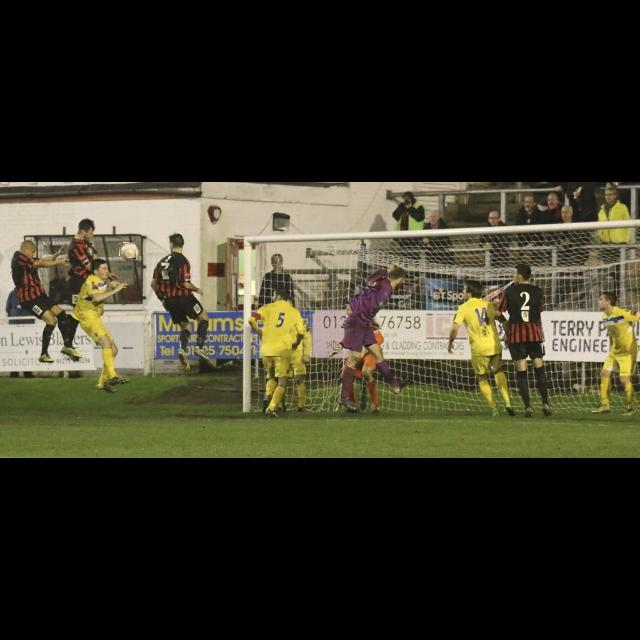Football: (120, 243, 136, 259)
